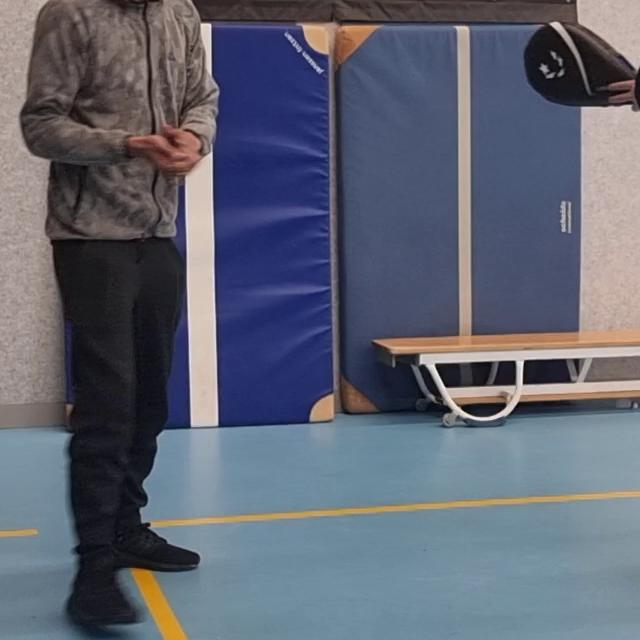paddle: (522, 19, 639, 110)
